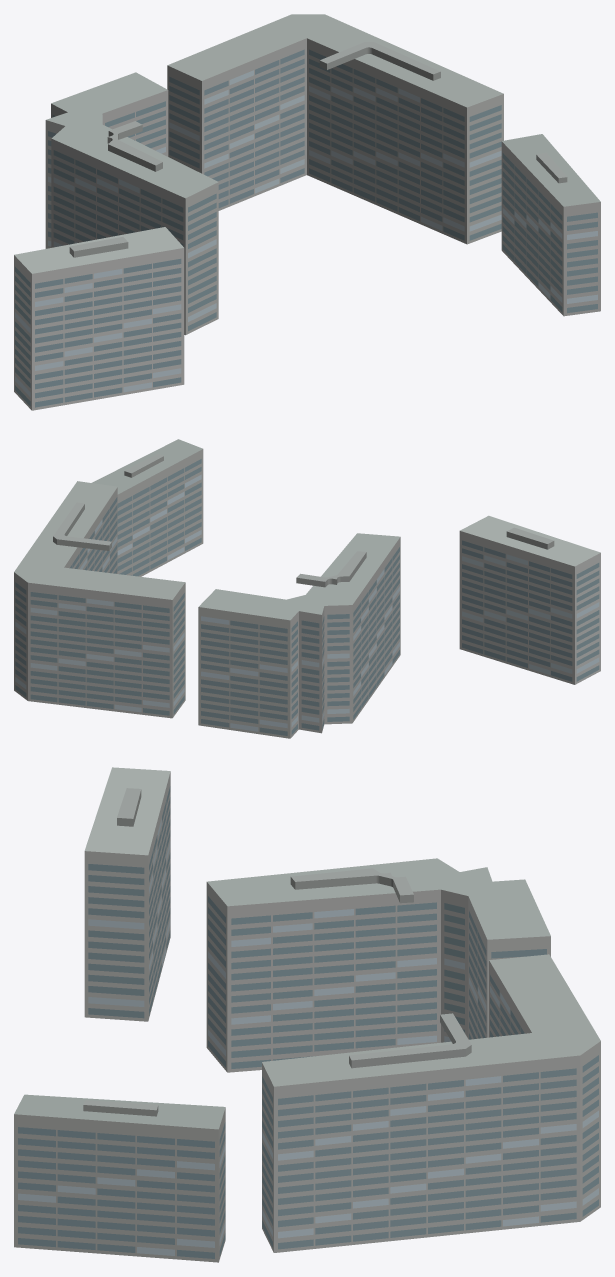
The model's file is apt-a13983712.glb.
3 renders of one model, top to bottom at view 1: azimuth 30°, elevation 25°; view 2: azimuth 150°, elevation 25°; view 3: azimuth 270°, elevation 25°, orthographic. The views are drawn at different scales.
Parts seen in each view (by area): view 1: apt-a13983712; view 2: apt-a13983712; view 3: apt-a13983712.
Boxes of the visible parts, x1,y1,x2,y2 form: apt-a13983712: (14, 14, 600, 410); apt-a13983712: (14, 439, 600, 738); apt-a13983712: (14, 767, 600, 1262).
Bounding box in the file's own units: 162 × 40 × 122.
